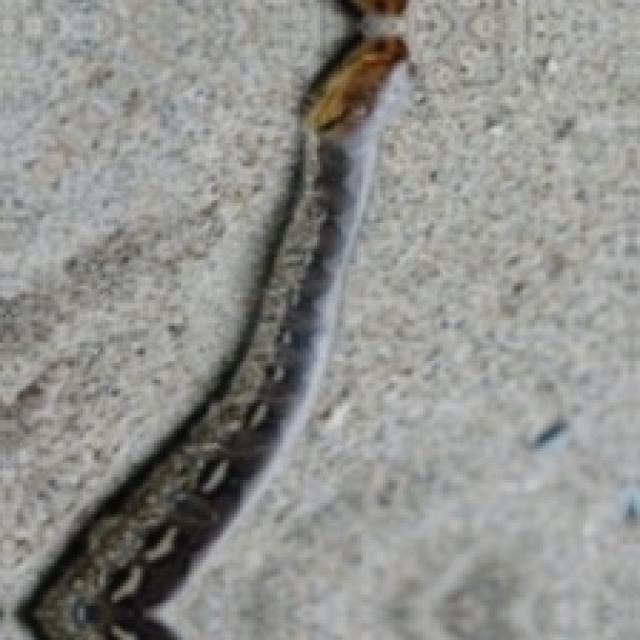reticulated python: (19, 0, 411, 640)
